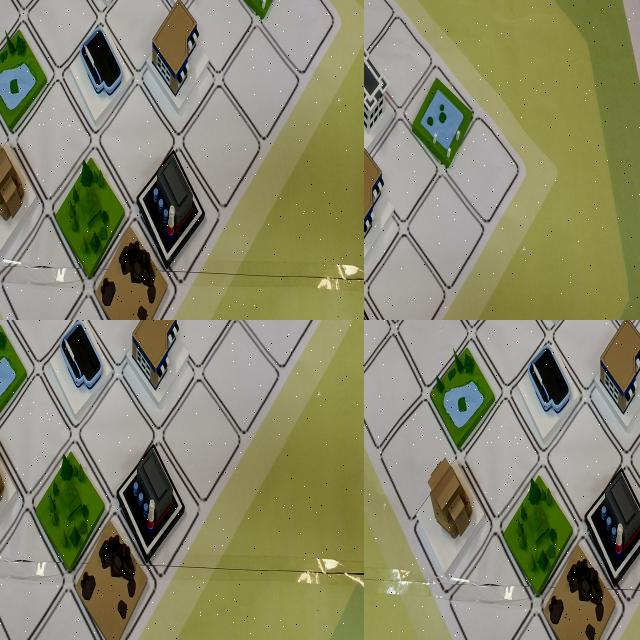bus_stop: (48, 0, 120, 56), (517, 320, 586, 377), (364, 118, 393, 214), (37, 320, 88, 362)
factory: (112, 97, 193, 215), (583, 451, 640, 580), (0, 320, 23, 352)
fish_pool: (219, 0, 284, 55), (364, 191, 392, 287), (141, 320, 190, 368)
forest: (16, 98, 98, 231), (503, 475, 576, 599), (110, 320, 156, 357)
gogo_shop: (511, 331, 579, 447), (37, 0, 113, 94), (63, 360, 116, 440), (364, 56, 391, 149)
research_build: (133, 0, 201, 56), (591, 320, 640, 377), (84, 320, 134, 359), (364, 255, 392, 320)
restaurant: (117, 0, 200, 81), (591, 320, 640, 431), (0, 335, 47, 407), (364, 98, 391, 190)
silicate_rock: (68, 186, 134, 302), (543, 543, 616, 640), (14, 320, 60, 359)
volunteer_center: (406, 451, 482, 571), (0, 65, 39, 198), (63, 320, 110, 359), (364, 271, 391, 320)
wet_land: (428, 336, 504, 456), (0, 0, 34, 79), (364, 50, 395, 126), (0, 320, 37, 353)
